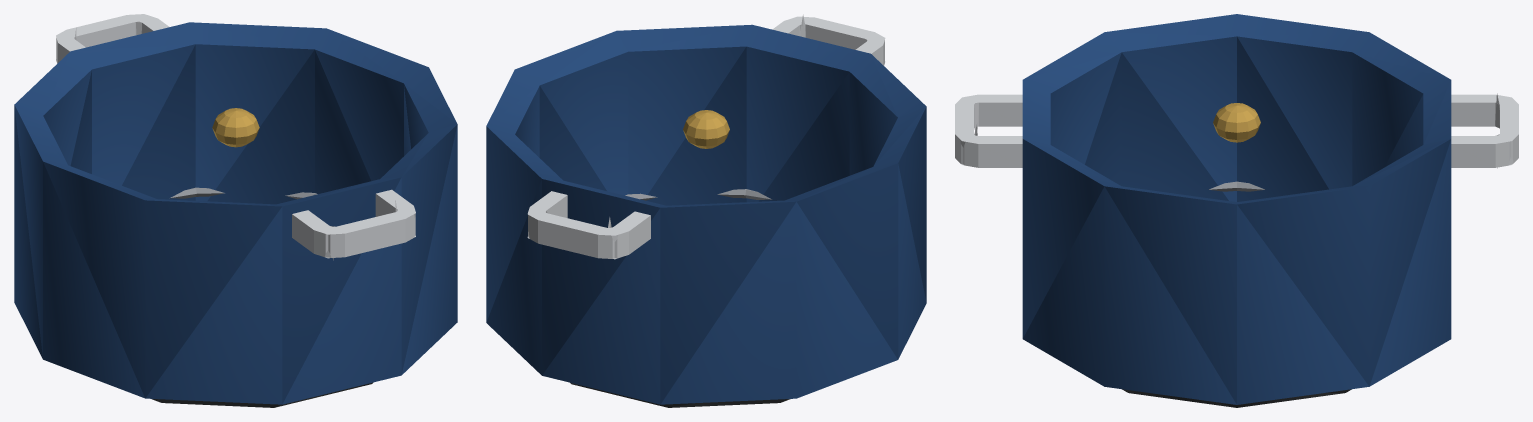
The model's file is pot.glb.
3 renders of one model, left to right at view 1: azimuth 30°, elevation 25°; view 2: azimuth 150°, elevation 25°; view 3: azimuth 270°, elevation 25°, orthographic.
Visible parts, largest first — view 1: pot; view 2: pot; view 3: pot.
Part boxes in pixels (box(x1,y1,x2,y2)): pot: box(14, 14, 457, 407); pot: box(486, 14, 926, 407); pot: box(955, 14, 1518, 407).
Size of the model in its own units: 0.6574 by 0.3608 by 0.8221.
